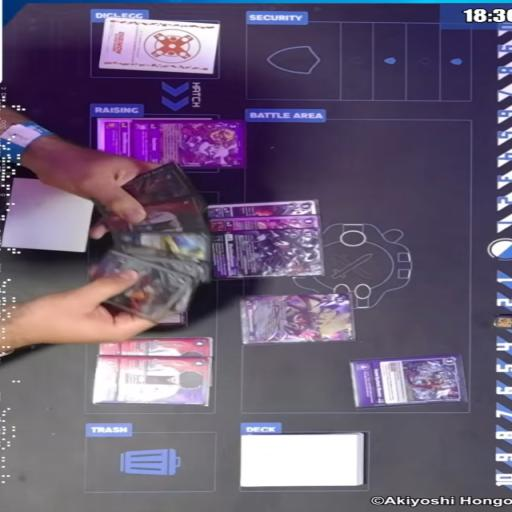card: (75, 251, 190, 320), (86, 352, 213, 409), (348, 355, 468, 411), (209, 227, 331, 282), (234, 294, 361, 344), (131, 120, 249, 168), (100, 165, 204, 214), (106, 194, 212, 240), (107, 234, 209, 270), (92, 334, 219, 361), (94, 118, 144, 169), (206, 199, 322, 220), (203, 214, 324, 233)
